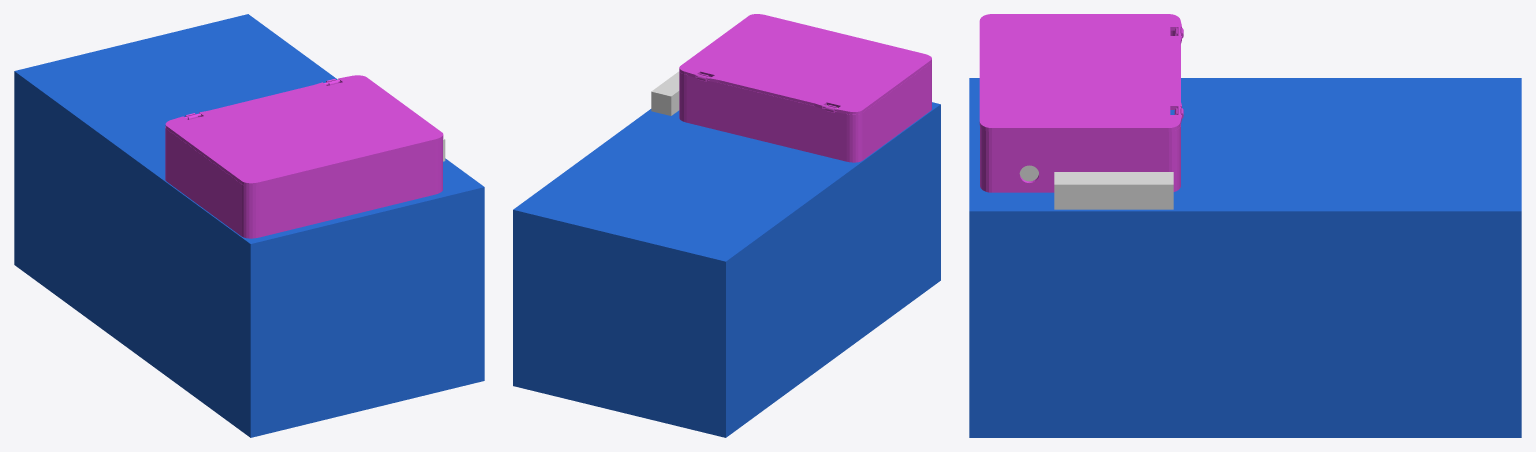
File: wadahalat.glb
3 renders of one model, left to right at view 1: azimuth 30°, elevation 25°; view 2: azimuth 150°, elevation 25°; view 3: azimuth 270°, elevation 25°, orthographic. The views are drawn at different scales.
Visible parts, largest first — view 1: Cube.005, Tutup, Kotak; view 2: Cube.005, Tutup, Kotak, Cube.006; view 3: Cube.005, Tutup, Kotak, Cube.006.
Part boxes in pixels (x1=…): Cube.005: x1=14, y1=14, x2=484, y2=437; Tutup: x1=165, y1=75, x2=443, y2=186; Kotak: x1=165, y1=78, x2=442, y2=238; Cube.005: x1=513, y1=102, x2=940, y2=437; Tutup: x1=679, y1=14, x2=931, y2=114; Kotak: x1=679, y1=62, x2=931, y2=162; Cube.006: x1=651, y1=71, x2=679, y2=115; Cube.005: x1=969, y1=78, x2=1521, y2=437; Tutup: x1=979, y1=14, x2=1181, y2=131; Kotak: x1=980, y1=27, x2=1183, y2=192; Cube.006: x1=1054, y1=172, x2=1173, y2=209.
Size of the model in its own units: 0.24 by 0.2449 by 0.42.
